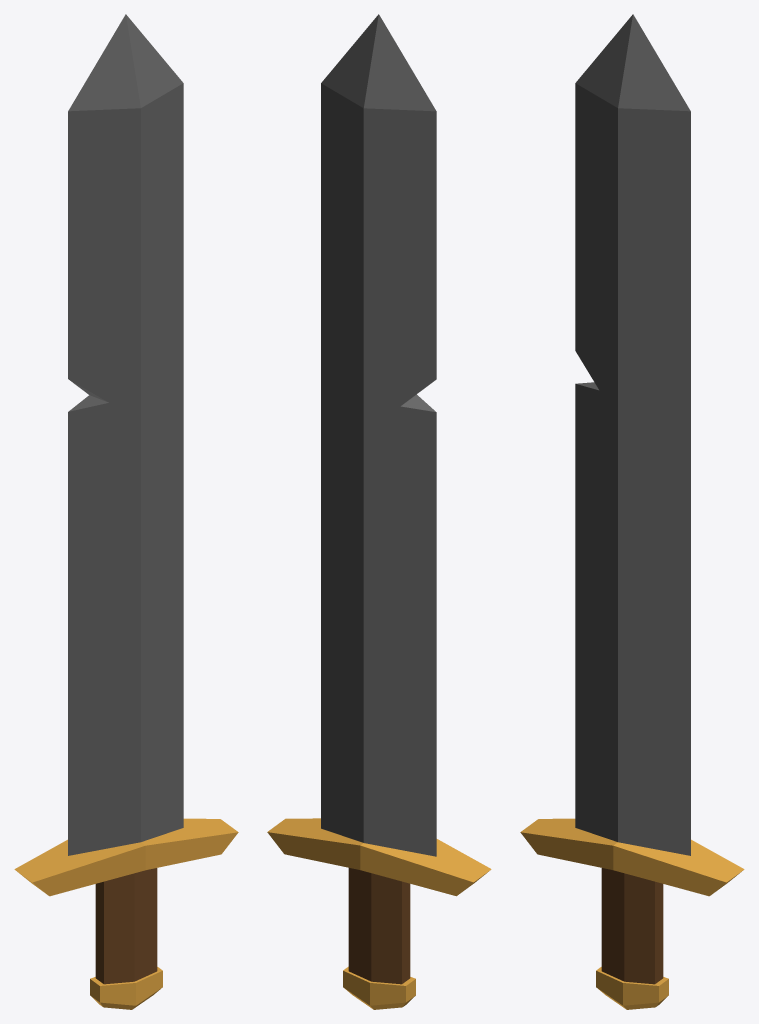
The model's file is Sword.fbx.
The picture shows the model from 3 angles, left to right: view 1: azimuth 30°, elevation 25°; view 2: azimuth 150°, elevation 25°; view 3: azimuth 330°, elevation 25°; orthographic projection.
Visible parts, largest first — view 1: épée; view 2: épée; view 3: épée.
Part boxes in pixels (x1,y1,x2,y2): épée: (14, 14, 238, 1009); épée: (267, 14, 491, 1009); épée: (520, 14, 744, 1009).
Bounding box in the file's own units: 19.16 × 87.99 × 6.16.
